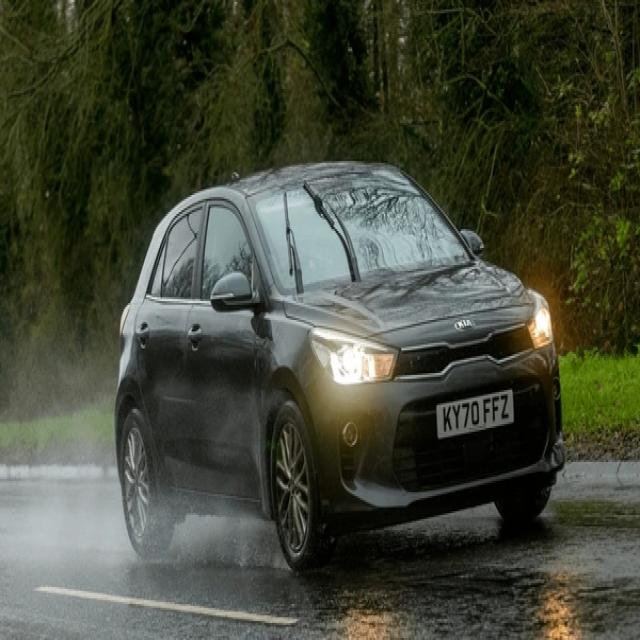kia: (455, 315, 473, 333)
